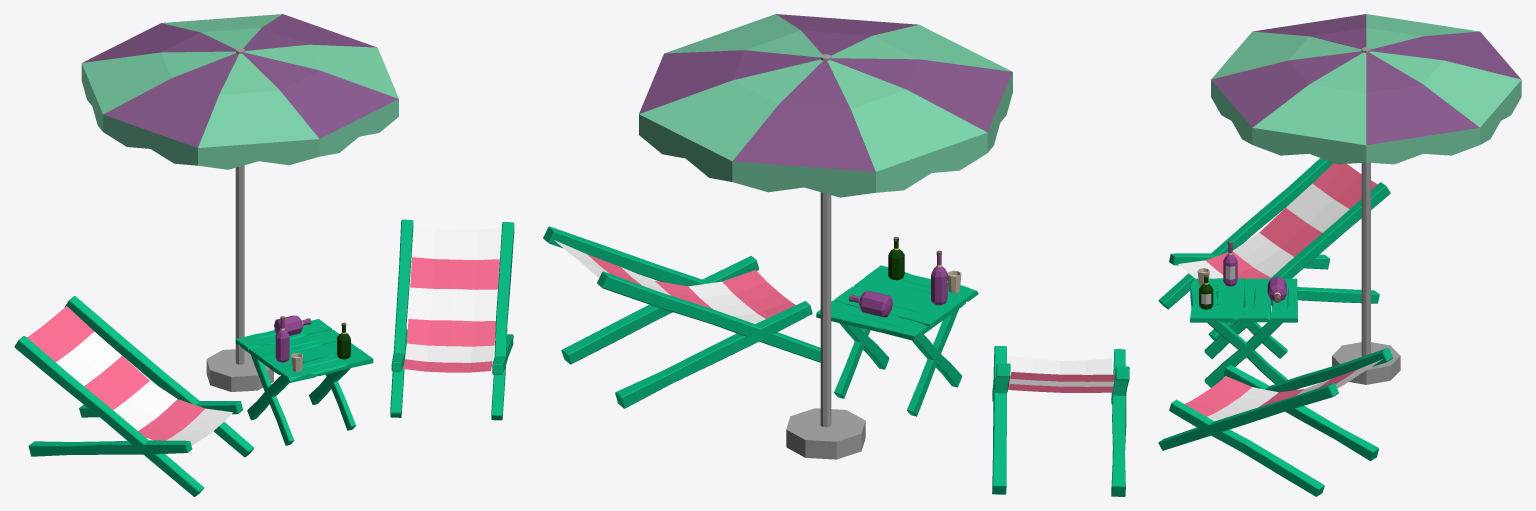
Rendered from summer scene2.fbx.
3 renders of one model, left to right at view 1: azimuth 30°, elevation 25°; view 2: azimuth 150°, elevation 25°; view 3: azimuth 270°, elevation 25°, orthographic. The views are drawn at different scales.
Visible parts, largest first — view 1: Plane.001, Cube.004, Cube.001, Cube.010, Cylinder.002; view 2: Plane.001, Cube.001, Cube.010, Cube.004, Cylinder.002, Cylinder, Cylinder.005; view 3: Plane.001, Cube.004, Cube.001, Cube.010, Cylinder.002, Cylinder.005, Cylinder, Cylinder.006.
Part boxes in pixels (x1,y1,x2,y2): Plane.001: (81, 14, 398, 169); Cube.004: (14, 296, 254, 496); Cube.001: (390, 219, 514, 420); Cube.010: (235, 319, 373, 445); Cylinder.002: (206, 48, 273, 391); Plane.001: (639, 14, 1012, 197); Cube.001: (543, 226, 820, 408); Cube.010: (816, 265, 978, 416); Cube.004: (992, 345, 1129, 496); Cylinder.002: (786, 54, 865, 459); Cylinder: (848, 291, 892, 317); Cylinder.005: (931, 250, 947, 305); Plane.001: (1211, 14, 1521, 164); Cube.004: (1158, 158, 1390, 340); Cube.001: (1158, 348, 1392, 496); Cube.010: (1190, 278, 1297, 387); Cylinder.002: (1332, 47, 1400, 384); Cylinder.005: (1223, 241, 1237, 286); Cylinder: (1267, 276, 1286, 302); Cylinder.006: (1199, 273, 1213, 309).
Bounding box in the file's own units: 900 × 581 × 580.
